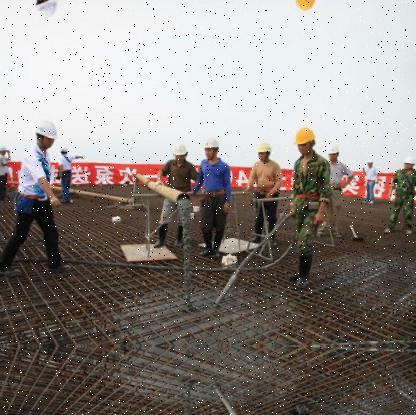helmet: (35, 114, 61, 150), (294, 121, 320, 157), (34, 0, 61, 23), (204, 132, 222, 161), (172, 138, 192, 163), (256, 137, 274, 162), (293, 0, 320, 16), (328, 141, 339, 164), (403, 153, 416, 172), (61, 143, 69, 155), (203, 0, 222, 5)
